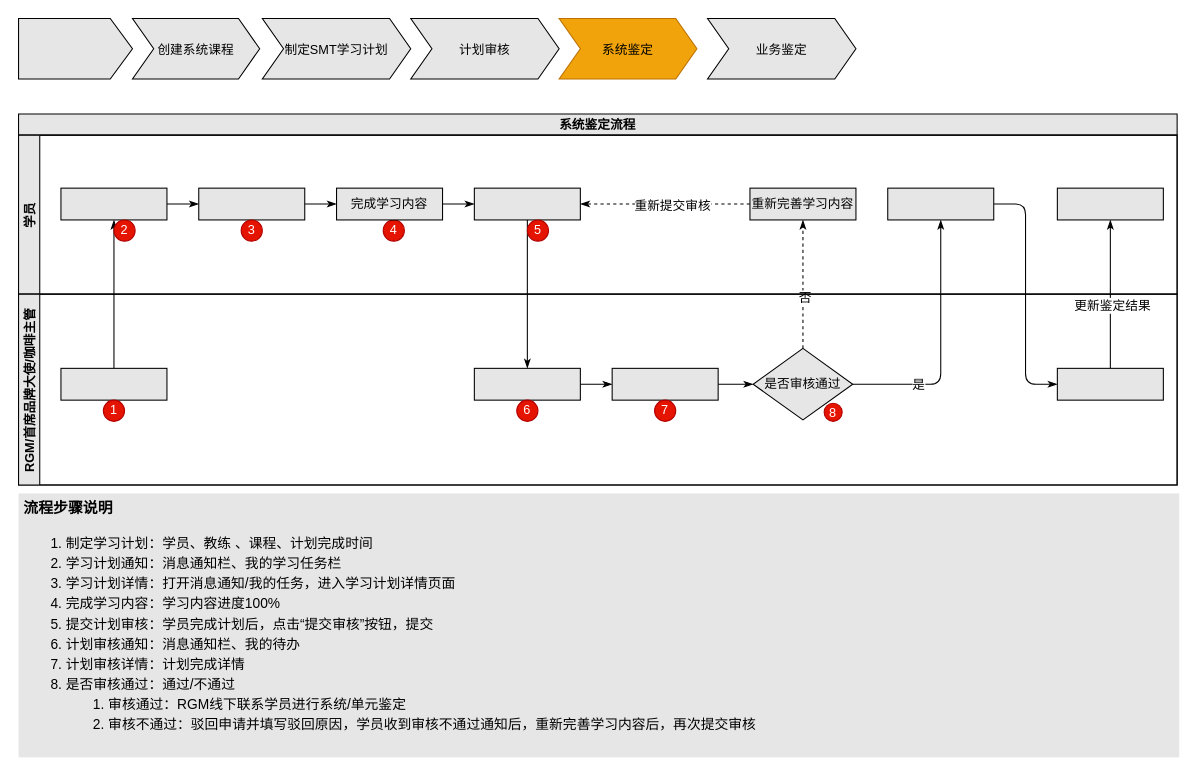
The diagram is 1198 pixels wide and 776 high, and some of its shapes have lost their labels. The centre of each missing label's shape, as x and y in pixels:
"准备鉴定" belongs at point (940, 203).
"创建鉴定表" belongs at point (74, 48).
"制定学习计划" belongs at point (113, 383).
"填写鉴定表" belongs at point (1109, 383).
"学习计划详情" belongs at point (251, 203).
"学习计划通知" belongs at point (113, 203).
"提交计划审核" belongs at point (526, 203).
"查看鉴定结果" belongs at point (1109, 203).
"计划审核详情" belongs at point (664, 383).
"计划审核通知" belongs at point (526, 383).
